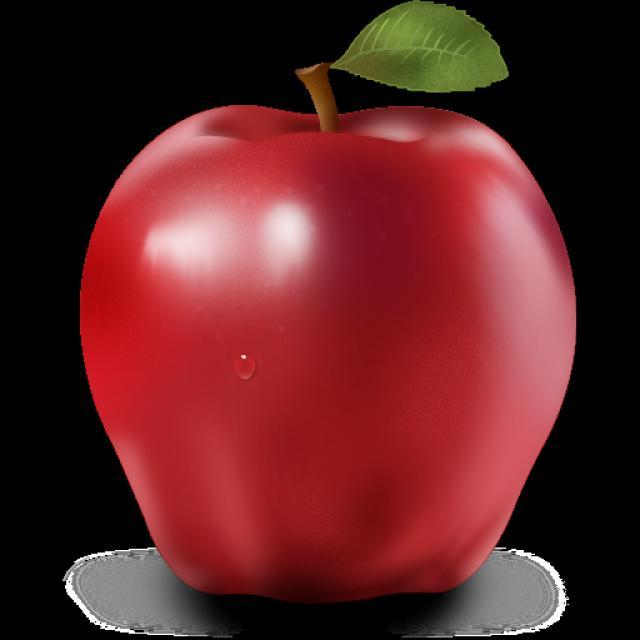APPLE: (76, 102, 564, 600)
